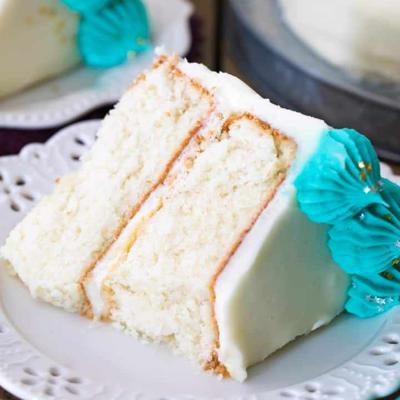cake: (3, 45, 385, 384)
